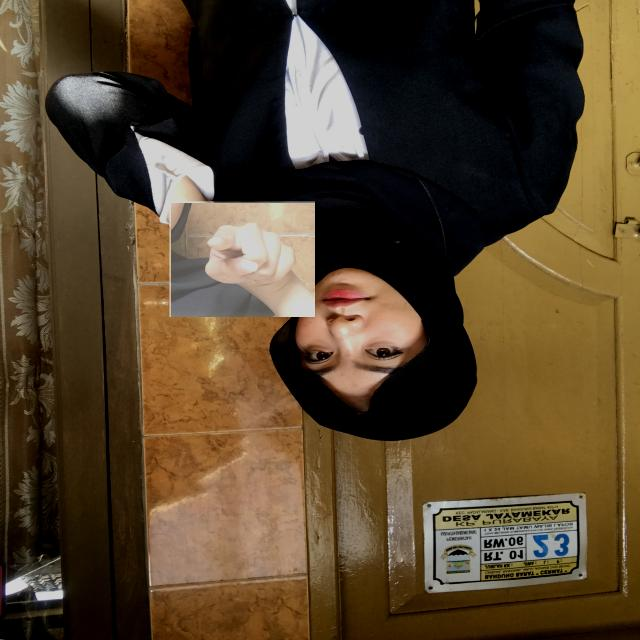kamu: (168, 200, 314, 316)
